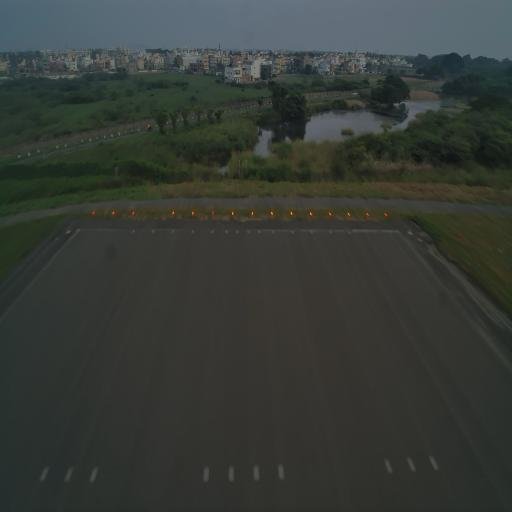off: (36, 461, 54, 488), (378, 454, 394, 482), (273, 460, 287, 487), (222, 462, 236, 488), (250, 457, 262, 487), (61, 463, 75, 486), (89, 460, 100, 489), (404, 455, 416, 481), (201, 462, 212, 490), (430, 448, 440, 472), (153, 212, 158, 226), (210, 226, 216, 236), (234, 228, 240, 238), (270, 226, 276, 236), (328, 226, 334, 236), (151, 227, 157, 236), (170, 228, 176, 236), (190, 227, 196, 235), (223, 228, 229, 236), (347, 228, 353, 236), (290, 228, 295, 236), (309, 228, 314, 236), (132, 227, 136, 235), (246, 228, 251, 234), (257, 229, 261, 236)
on: (64, 224, 71, 238), (170, 207, 177, 220), (189, 208, 196, 220), (288, 208, 295, 220), (108, 209, 116, 219), (328, 208, 334, 220), (364, 208, 371, 218), (406, 228, 413, 238), (130, 209, 136, 219), (210, 209, 216, 219), (250, 209, 255, 221), (308, 208, 314, 218), (347, 210, 353, 220), (382, 210, 388, 220), (269, 209, 275, 218), (92, 208, 96, 219), (231, 208, 235, 219)
